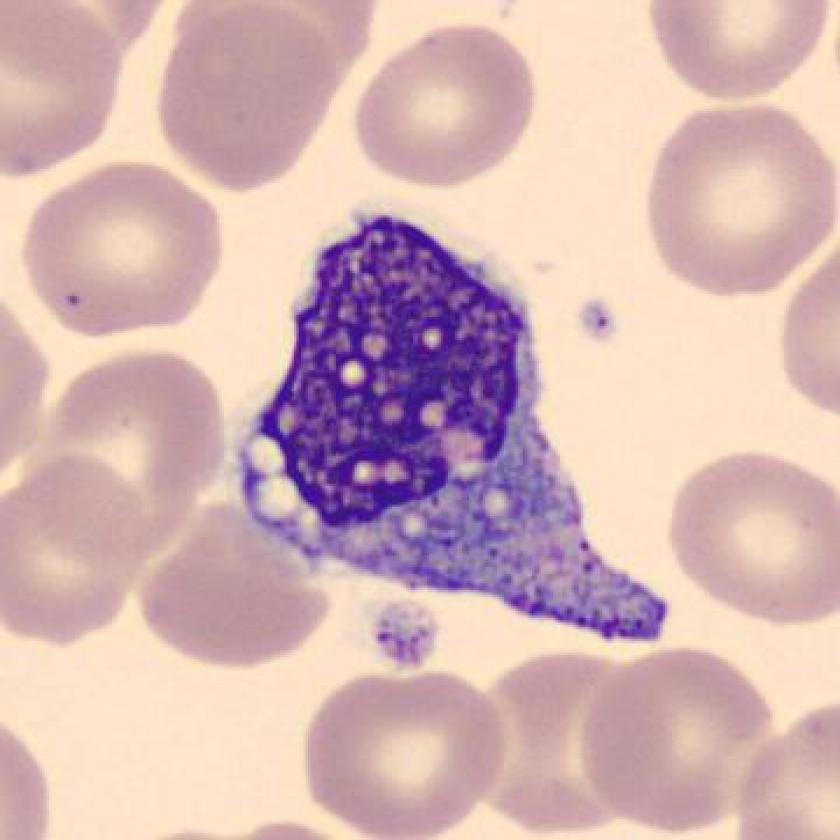monocyte: (214, 196, 683, 661)
